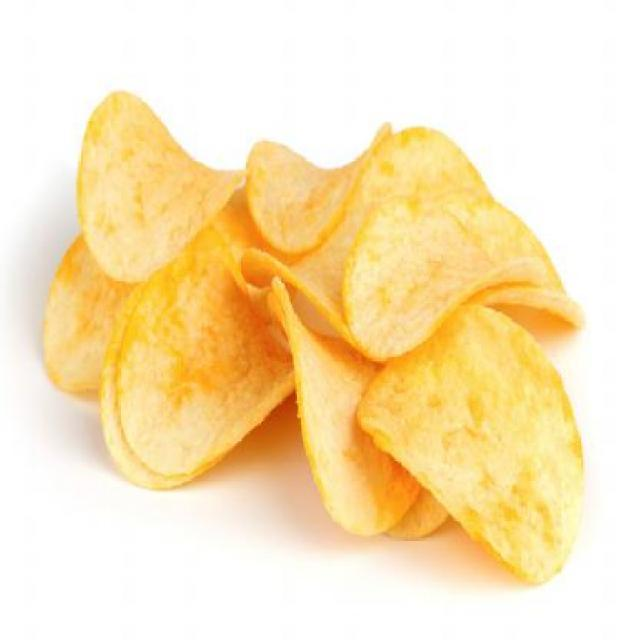Chips packaged: (34, 86, 594, 592)
